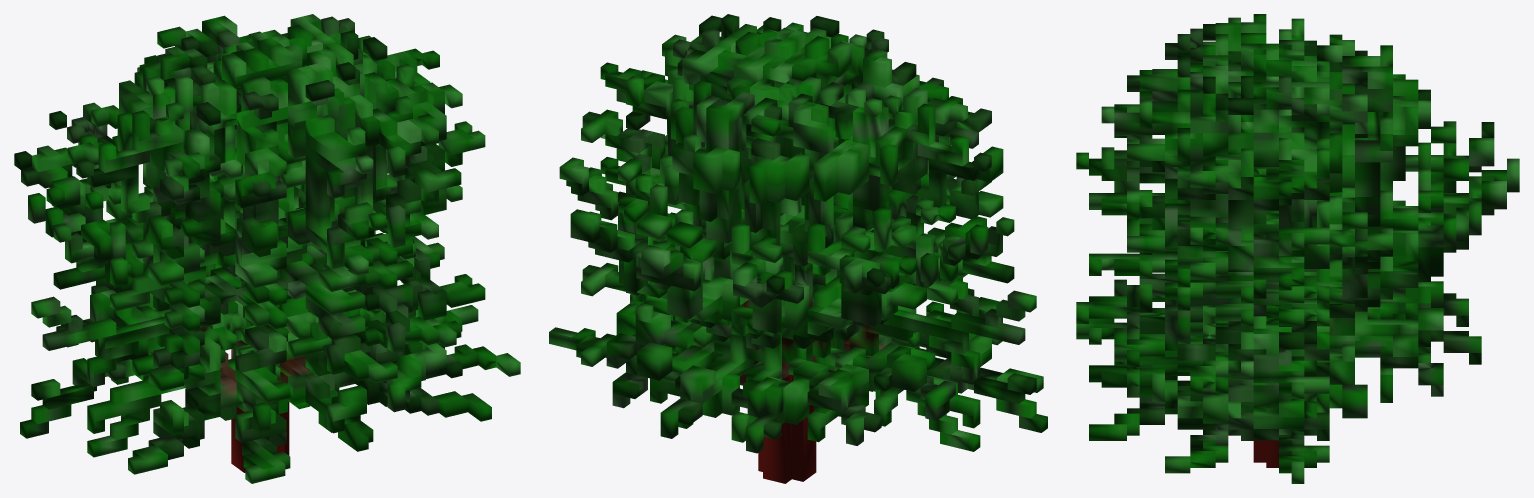
File: plant_02t_0_lev1_lev3.glb
The picture shows the model from 3 angles, left to right: view 1: azimuth 30°, elevation 25°; view 2: azimuth 150°, elevation 25°; view 3: azimuth 270°, elevation 25°; orthographic projection. The views are drawn at different scales.
Parts seen in each view (by area): view 1: plant_02t_0_lev1_lev3; view 2: plant_02t_0_lev1_lev3; view 3: plant_02t_0_lev1_lev3.
Boxes of the visible parts, <box> form: plant_02t_0_lev1_lev3: <box>14,14,520,483</box>; plant_02t_0_lev1_lev3: <box>549,14,1047,483</box>; plant_02t_0_lev1_lev3: <box>1076,14,1519,483</box>.
Bounding box in the file's own units: 2.47 × 2.12 × 2.06.
1 material, 1 textured.
